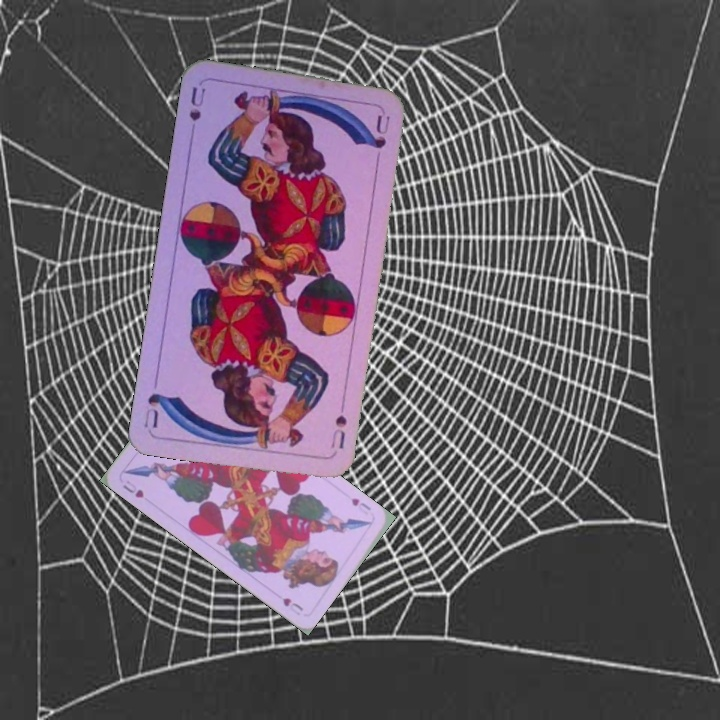HU: (119, 476, 146, 501), (347, 494, 374, 518)
SU: (326, 398, 349, 457), (185, 82, 208, 123)
